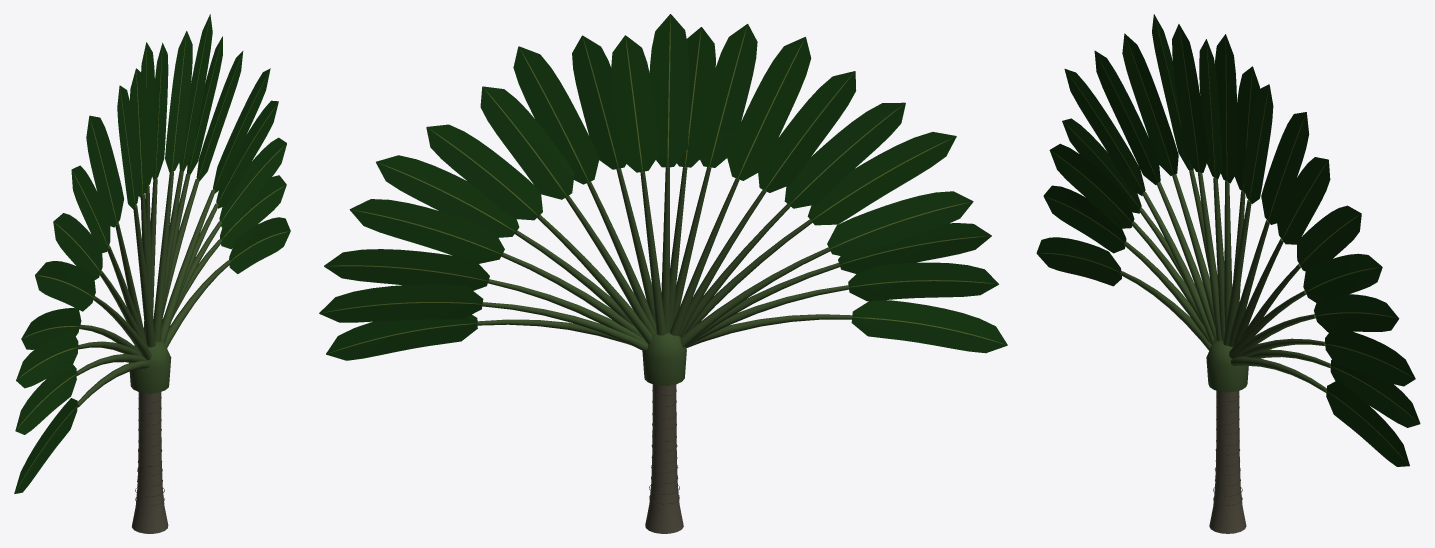
File: travelers_palm.glb
The picture shows the model from 3 angles, left to right: view 1: azimuth 30°, elevation 25°; view 2: azimuth 150°, elevation 25°; view 3: azimuth 270°, elevation 25°; orthographic projection. The views are drawn at different scales.
Parts seen in each view (by area): view 1: Leaves, Leaf sheaths and petioles, Trunk; view 2: Leaves, Leaf sheaths and petioles, Trunk; view 3: Leaves, Leaf sheaths and petioles, Trunk.
Boxes of the visible parts, box(x1,y1,x2,y2) form: Leaves: box(14, 14, 290, 493); Leaf sheaths and petioles: box(76, 170, 231, 407); Trunk: box(132, 392, 168, 533); Leaves: box(319, 14, 1007, 360); Leaf sheaths and petioles: box(477, 166, 852, 385); Trunk: box(645, 384, 683, 533); Leaves: box(1036, 14, 1420, 466); Leaf sheaths and petioles: box(1120, 170, 1330, 392); Trunk: box(1209, 390, 1246, 533).
Bounding box in the file's own units: 8.25 × 8.28 × 5.88.
Materials: 5 (5 with a texture image).
